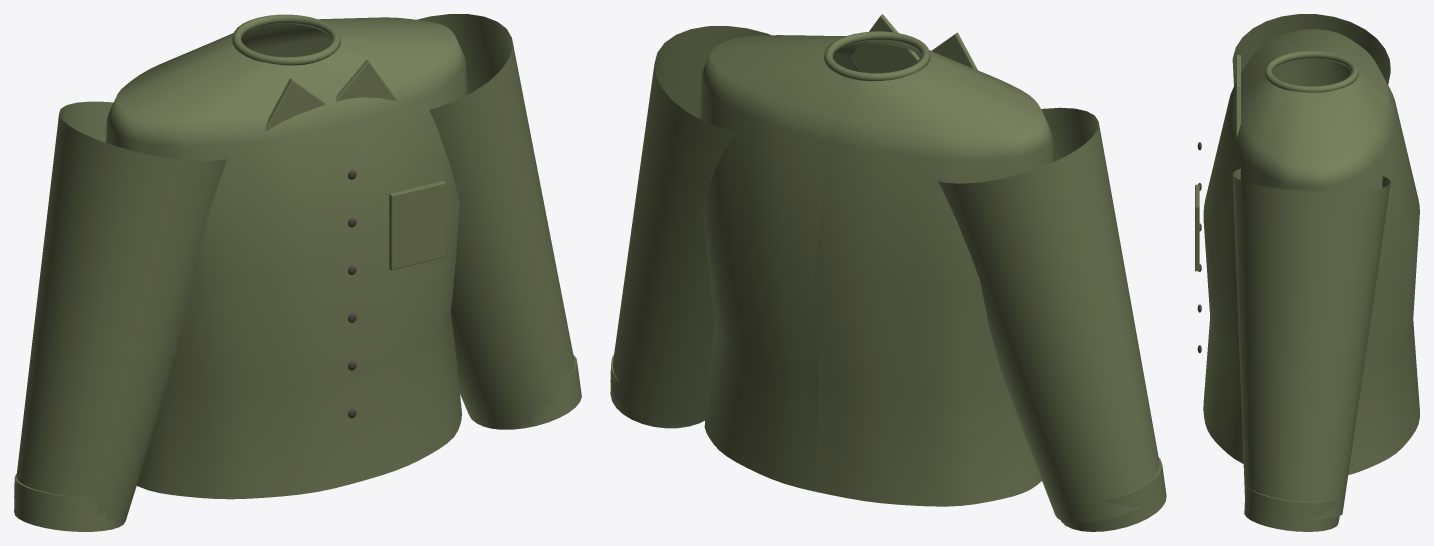
The model's file is veste-nomade-homme.glb.
The picture shows the model from 3 angles, left to right: view 1: azimuth 30°, elevation 25°; view 2: azimuth 150°, elevation 25°; view 3: azimuth 270°, elevation 25°; orthographic projection. The views are drawn at different scales.
Parts seen in each view (by area): view 1: edit-12, long-sleeve (×2); view 2: edit-12, long-sleeve (×2); view 3: edit-12, long-sleeve (×2).
Boxes of the visible parts, left/top/right/bottom form: edit-12: left=14, top=14, right=581, bottom=531; long-sleeve (×2): left=14, top=14, right=574, bottom=523; edit-12: left=610, top=14, right=1166, bottom=531; long-sleeve (×2): left=610, top=26, right=1159, bottom=523; edit-12: left=1195, top=29, right=1419, bottom=531; long-sleeve (×2): left=1232, top=14, right=1390, bottom=519.
Bounding box in the file's own units: 0.7997 × 0.5891 × 0.3316.
